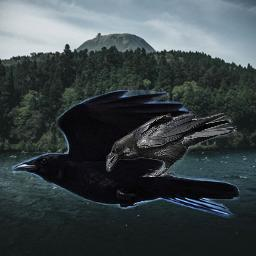Crow: (12, 90, 241, 218), (106, 113, 237, 177)
